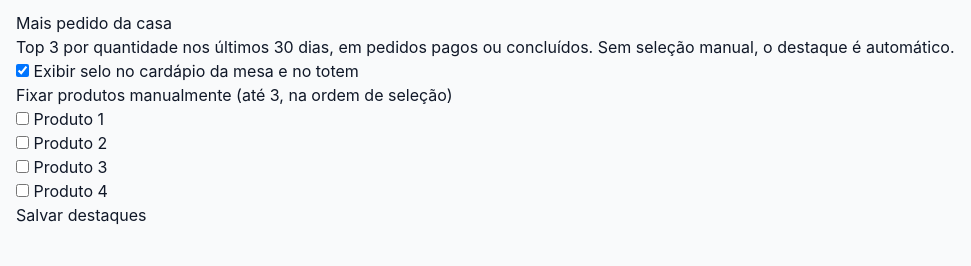
Test: salva somente a loja autorizada e limita os pinos a três na ordem de seleção
The width and height of the screenshot is (971, 266).
expect the text "Produto 1" is shown: met, box [16,109,104,129]
Click the checkbox labelled "Produto 3".
click(22, 166)  # box [16,160,29,173]
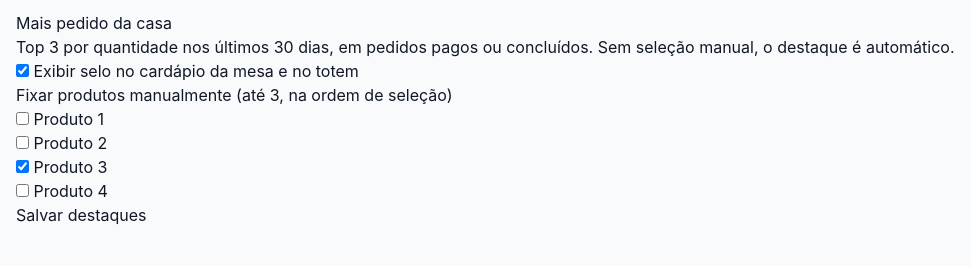
Click the checkbox labelled "Produto 1".
click(22, 118)  # box [16,112,29,125]
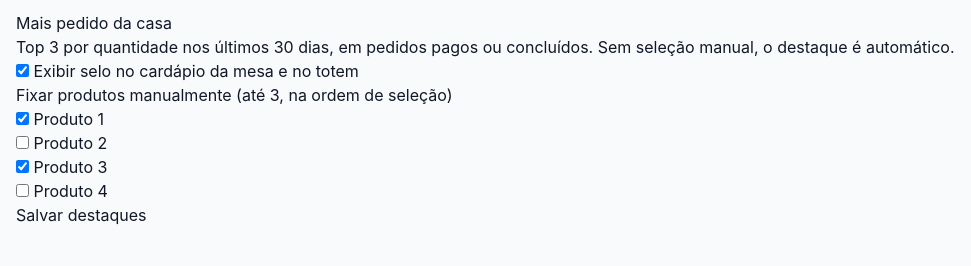
Click the checkbox labelled "Produto 2".
click(22, 142)  # box [16,136,29,149]
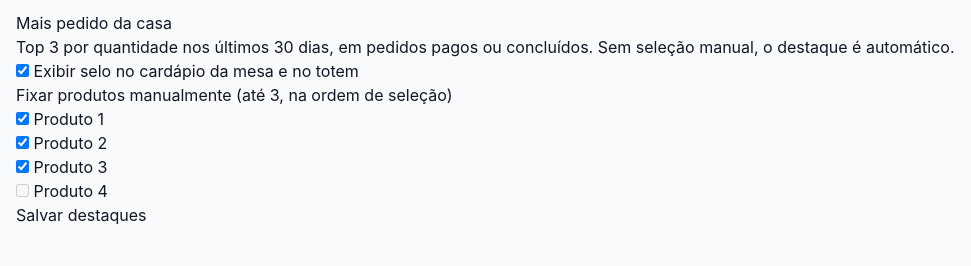
expect the checkbox labelled "Produto 4" is disabled: met, box [16,184,29,197]
Click the checkbox labelled "Exibir selo no cardápio da mesa e no totem".
click(22, 70)  # box [16,64,29,77]
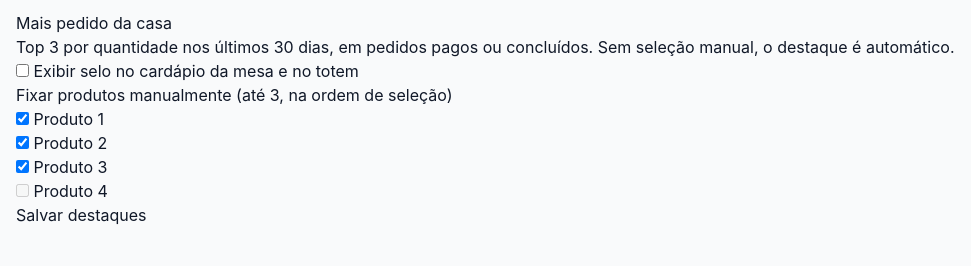
Click the button "Salvar destaques".
click(81, 215)  # box [16,203,146,227]
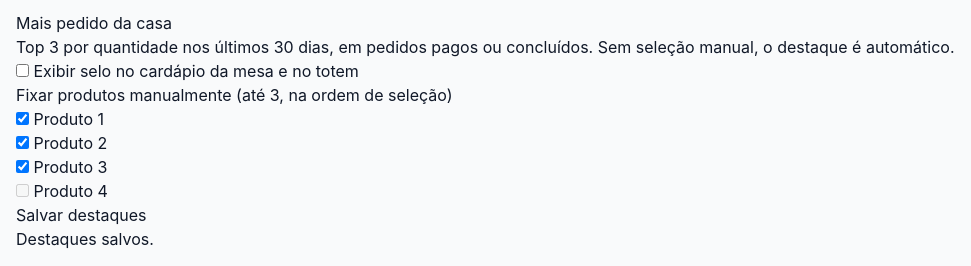
expect the text "Destaques salvos." is shown: met, box [16,229,154,249]
